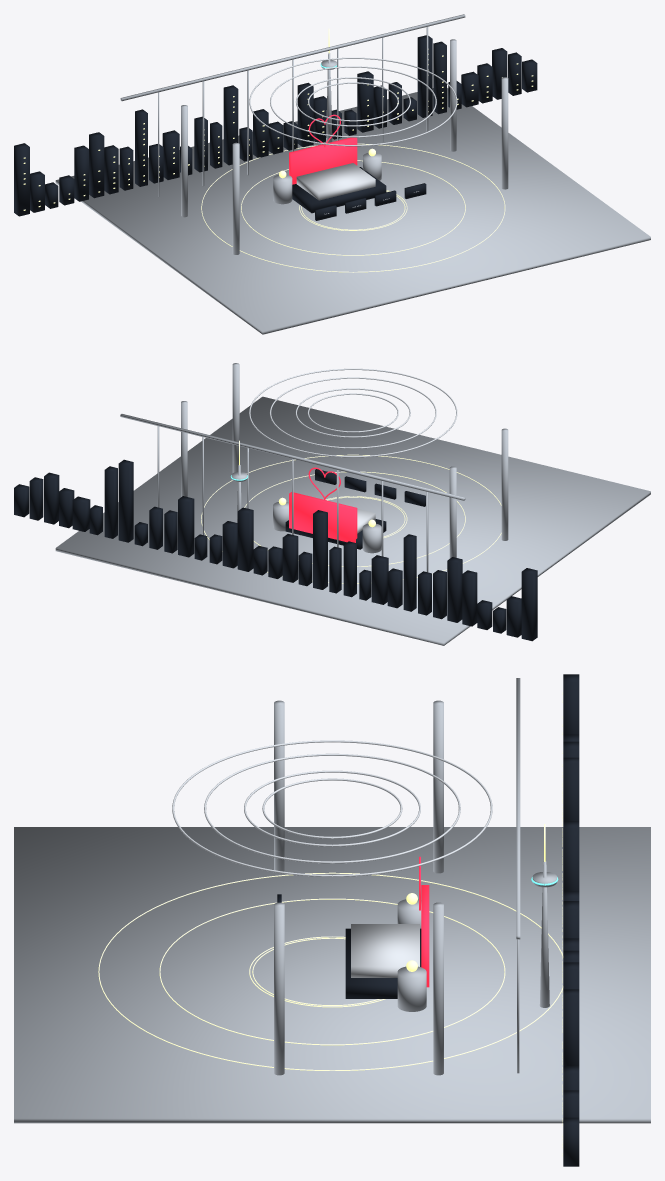
The model's file is relationships.glb.
3 renders of one model, top to bottom at view 1: azimuth 30°, elevation 25°; view 2: azimuth 150°, elevation 25°; view 3: azimuth 270°, elevation 25°, orthographic. The views are drawn at different scales.
Parts seen in each view (by area): view 1: Reflective floor, Bed, Tufted headboard, Window lintel, Velvet platform, Toronto skyline.027, Toronto skyline, Toronto skyline.014, Toronto skyline.005, Toronto skyline.008, Toronto skyline.028, Toronto skyline.019 (+29 smaller); view 2: Reflective floor, Tufted headboard, Window lintel, Toronto skyline.027, Toronto skyline, Toronto skyline.014, Toronto skyline.008, Toronto skyline.019, Toronto skyline.005, Toronto skyline.023, Toronto skyline.028, Ceiling light ring.003 (+30 smaller); view 3: Reflective floor, Bed, Ceiling light ring.003, Chrome column.002, Chrome column.003, Chrome column.001, Chrome column, Ceiling light ring.002, Architectural floor inlay.003, Velvet platform, Window lintel, Toronto skyline.028 (+10 smaller).
Boxes of the visible parts, bbox=[...] form: Reflective floor: bbox=[55, 88, 650, 334]; Bed: bbox=[296, 163, 375, 200]; Tufted headboard: bbox=[289, 137, 357, 184]; Window lintel: bbox=[120, 14, 465, 101]; Velvet platform: bbox=[292, 167, 386, 213]; Toronto skyline.027: bbox=[417, 35, 432, 117]; Toronto skyline: bbox=[14, 143, 29, 216]; Toronto skyline.014: bbox=[223, 85, 238, 165]; Toronto skyline.005: bbox=[89, 132, 104, 198]; Toronto skyline.008: bbox=[135, 109, 147, 186]; Toronto skyline.028: bbox=[433, 41, 446, 114]; Toronto skyline.019: bbox=[297, 82, 313, 147]; Reflective floor: bbox=[55, 396, 650, 645]; Tufted headboard: bbox=[289, 492, 357, 542]; Window lintel: bbox=[120, 414, 465, 500]; Toronto skyline.027: bbox=[118, 459, 133, 542]; Toronto skyline: bbox=[521, 568, 537, 641]; Toronto skyline.014: bbox=[313, 510, 327, 589]; Toronto skyline.008: bbox=[403, 534, 416, 611]; Toronto skyline.019: bbox=[237, 507, 253, 571]; Toronto skyline.005: bbox=[447, 557, 462, 622]; Toronto skyline.023: bbox=[178, 496, 194, 557]; Toronto skyline.028: bbox=[104, 466, 117, 538]; Ceiling light ring.003: bbox=[249, 368, 457, 457]; Reflective floor: bbox=[14, 827, 650, 1123]; Bed: bbox=[351, 924, 419, 977]; Ceiling light ring.003: bbox=[172, 740, 492, 876]; Chrome column.002: bbox=[274, 902, 284, 1075]; Chrome column.003: bbox=[433, 902, 443, 1075]; Chrome column.001: bbox=[433, 700, 443, 873]; Chrome column: bbox=[274, 700, 284, 873]; Ceiling light ring.002: bbox=[204, 753, 460, 863]; Architectural floor inlay.003: bbox=[98, 872, 563, 1070]; Velvet platform: bbox=[345, 928, 421, 998]; Window lintel: bbox=[516, 678, 520, 939]; Toronto skyline.028: bbox=[563, 989, 579, 1065].
Size of the model in its own units: 34.7 by 7.77 by 24.
